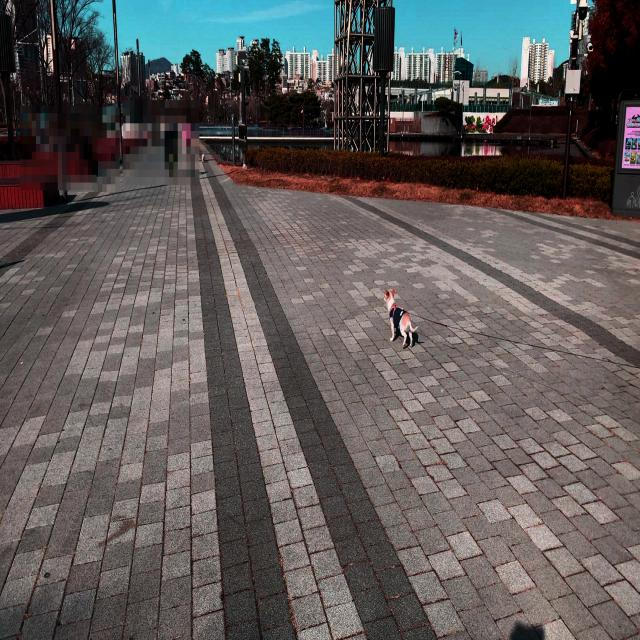Dog: (383, 287, 420, 351)
